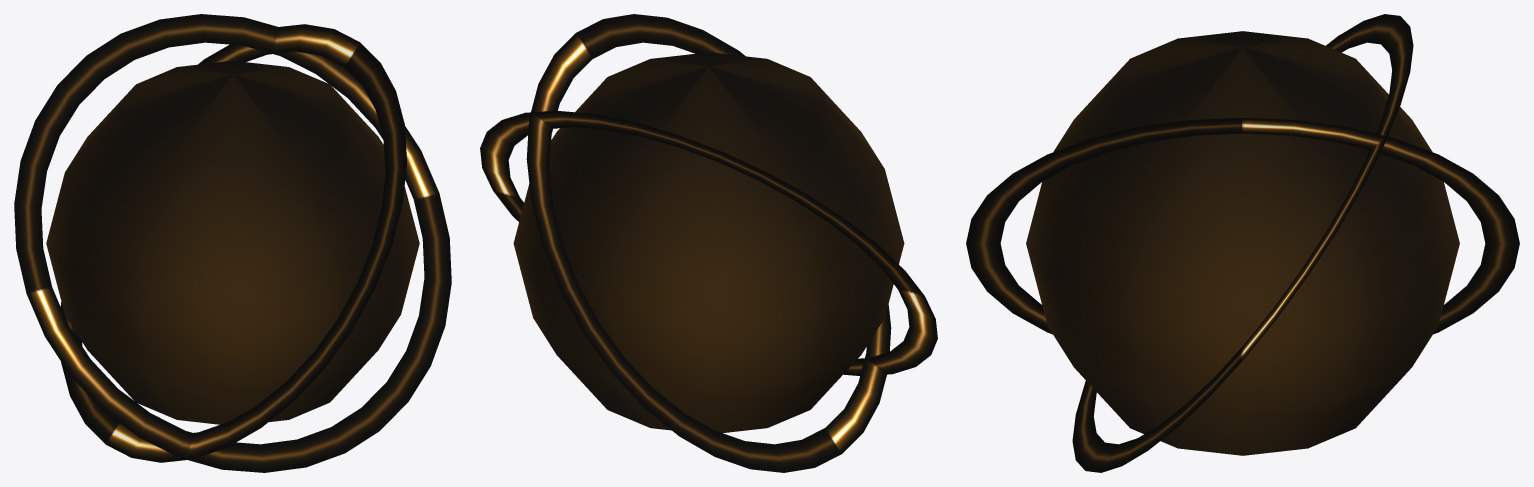
File: shard_sky_gold_v3b_2x.glb
3 views of the same model, side by side, from view 1: azimuth 30°, elevation 25°; view 2: azimuth 150°, elevation 25°; view 3: azimuth 270°, elevation 25° (orthographic). The views are drawn at different scales.
Visible parts, largest first — view 1: gem; view 2: gem; view 3: gem.
Boxes of the visible parts, left/top/right/bottom form: gem: left=14, top=14, right=451, bottom=472; gem: left=480, top=14, right=937, bottom=472; gem: left=966, top=14, right=1519, bottom=472.
Size of the model in its own units: 4.48 by 3.53 by 4.48.
Materials: 4 (3 with a texture image).
